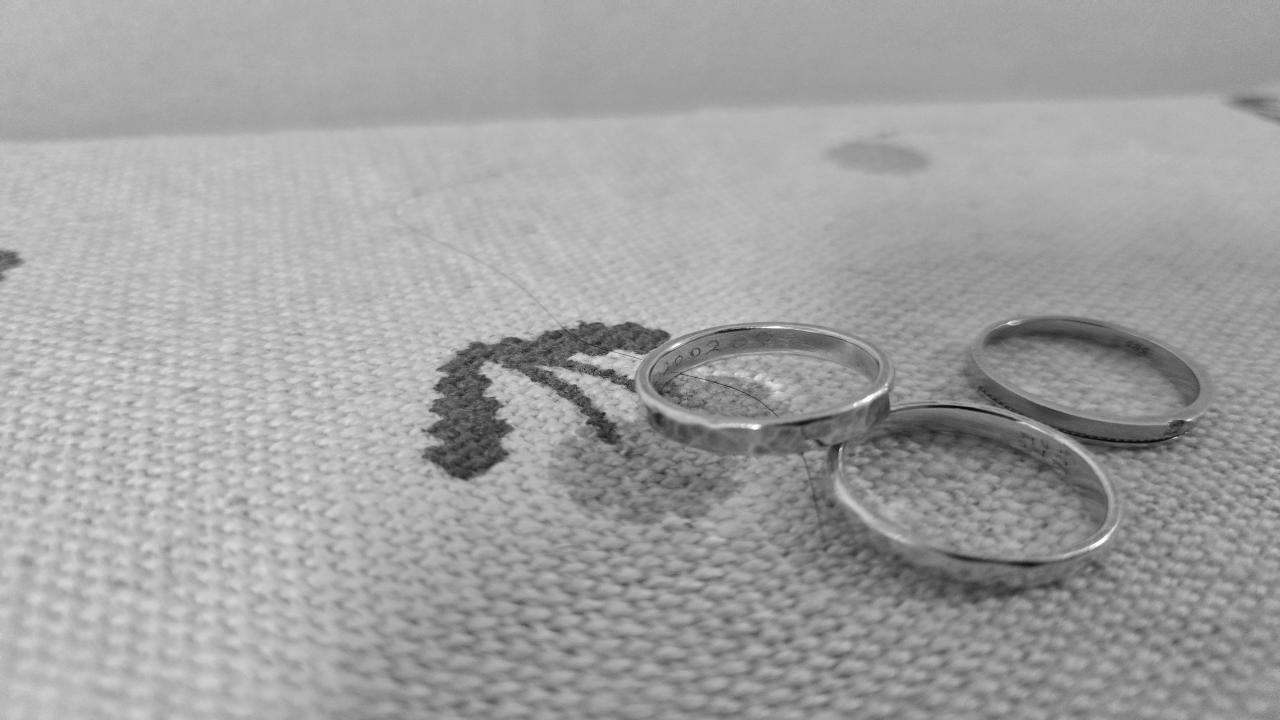ring: (831, 406, 1123, 585), (632, 322, 888, 457), (965, 315, 1220, 444)
